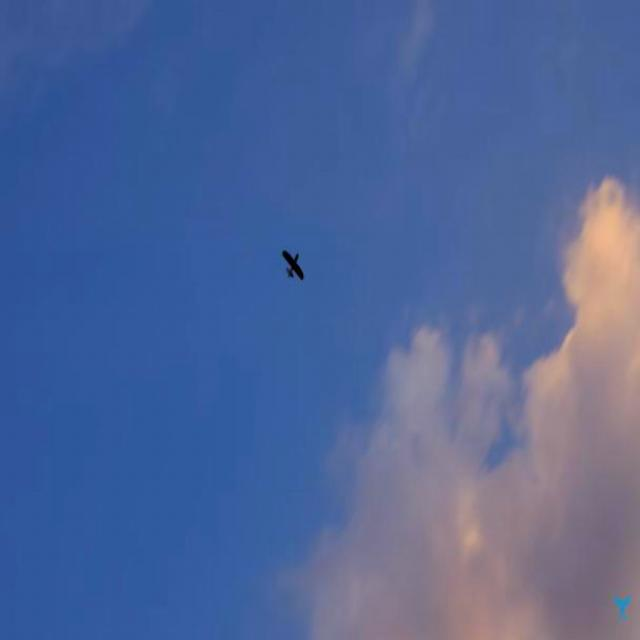iha: (280, 239, 306, 278)
